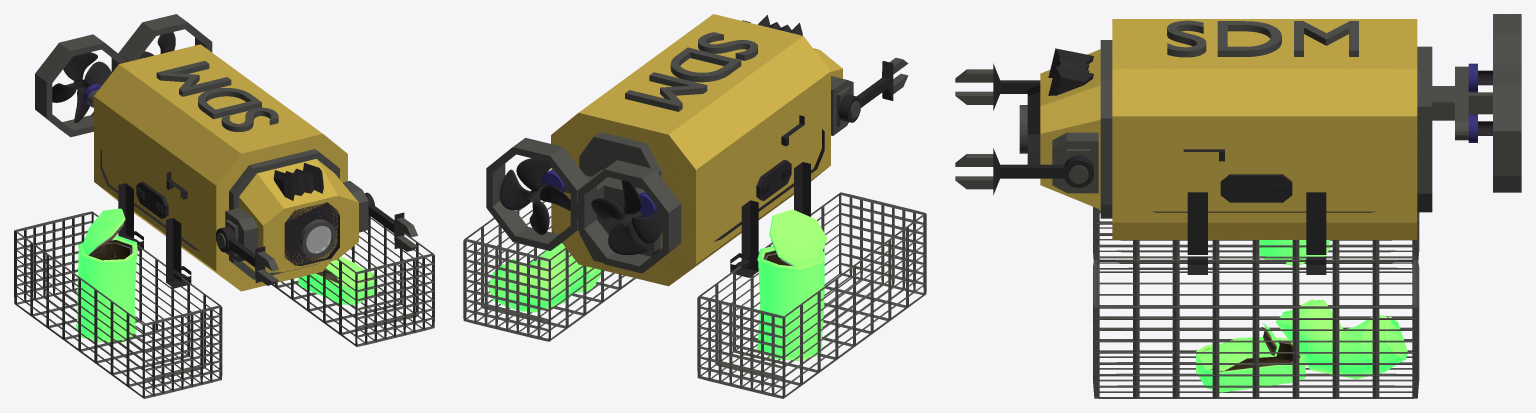
The model's file is collector_with_can.glb.
3 views of the same model, side by side, from view 1: azimuth 30°, elevation 25°; view 2: azimuth 150°, elevation 25°; view 3: azimuth 270°, elevation 25° (orthographic). The views are drawn at different scales.
Visible parts, largest first — view 1: main_body, neck, Can_02_GEO.006, Can_02_GEO, camera_lens; view 2: main_body, neck, Can_02_GEO.006, Circle.002; view 3: main_body, neck, Can_02_GEO.006, Can_02_GEO, Circle.002.
Boxes of the visible parts, x1=… form: main_body: x1=52, y1=32, x2=404, y2=291; neck: x1=14, y1=14, x2=434, y2=398; Can_02_GEO.006: x1=75, y1=208, x2=378, y2=342; Can_02_GEO: x1=88, y1=224, x2=373, y2=286; camera_lens: x1=306, y1=226, x2=331, y2=253; main_body: x1=499, y1=14, x2=893, y2=286; neck: x1=463, y1=20, x2=926, y2=398; Can_02_GEO.006: x1=488, y1=209, x2=827, y2=360; Circle.002: x1=540, y1=170, x2=657, y2=217; main_body: x1=993, y1=19, x2=1492, y2=274; neck: x1=955, y1=14, x2=1521, y2=398; Can_02_GEO.006: x1=1196, y1=240, x2=1407, y2=392; Can_02_GEO: x1=1202, y1=327, x2=1300, y2=371; Circle.002: x1=1468, y1=63, x2=1477, y2=142.
Bounding box in the file's own units: 4.09 × 2.96 × 5.53.
Materials: 6 (6 with a texture image).
